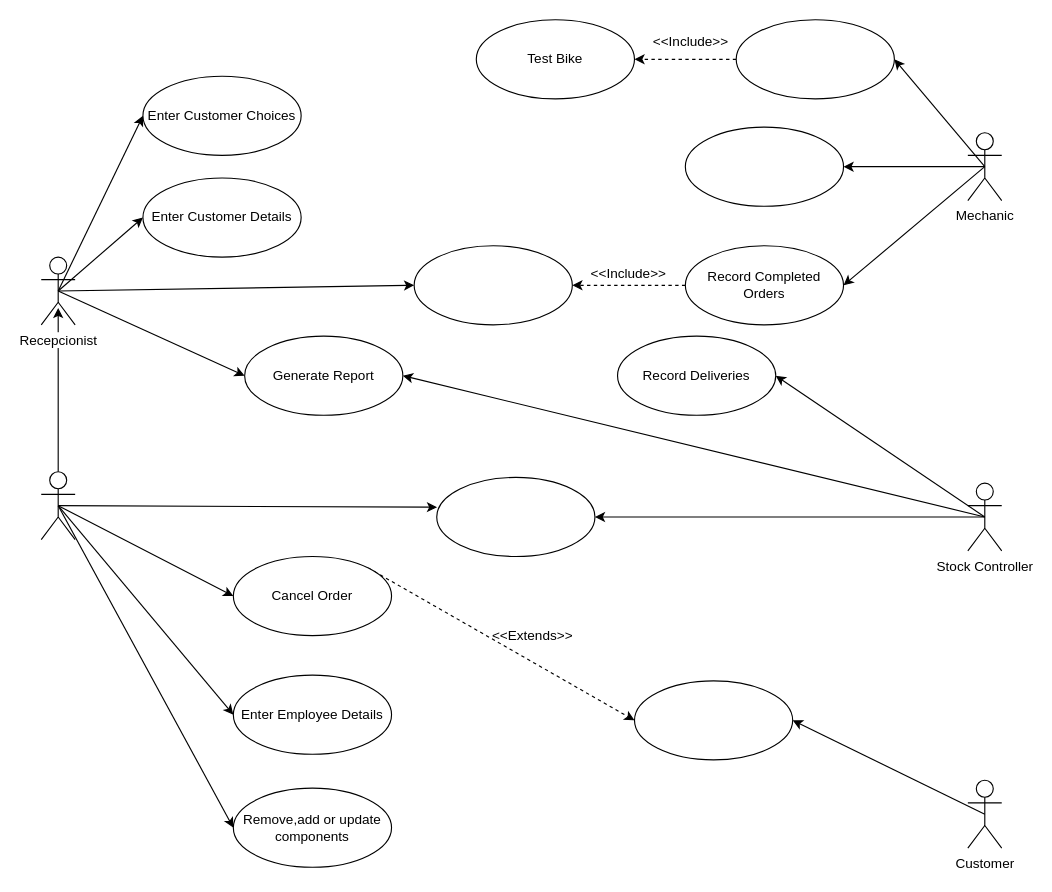
This 1052x892 diagram has some shape labels left out. The centre of each missing label's shape, as x and y in pixels:
"Build Bike" belongs at (814,59).
"Contact Customers" belongs at (492,285).
"Make Payment" belongs at (713,720).
"Manager" belongs at (57,505).
"Order Components" belongs at (515,516).
"Print Order" belongs at (764,166).
